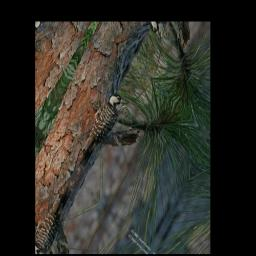Woodpecker: (66, 80, 129, 180)
